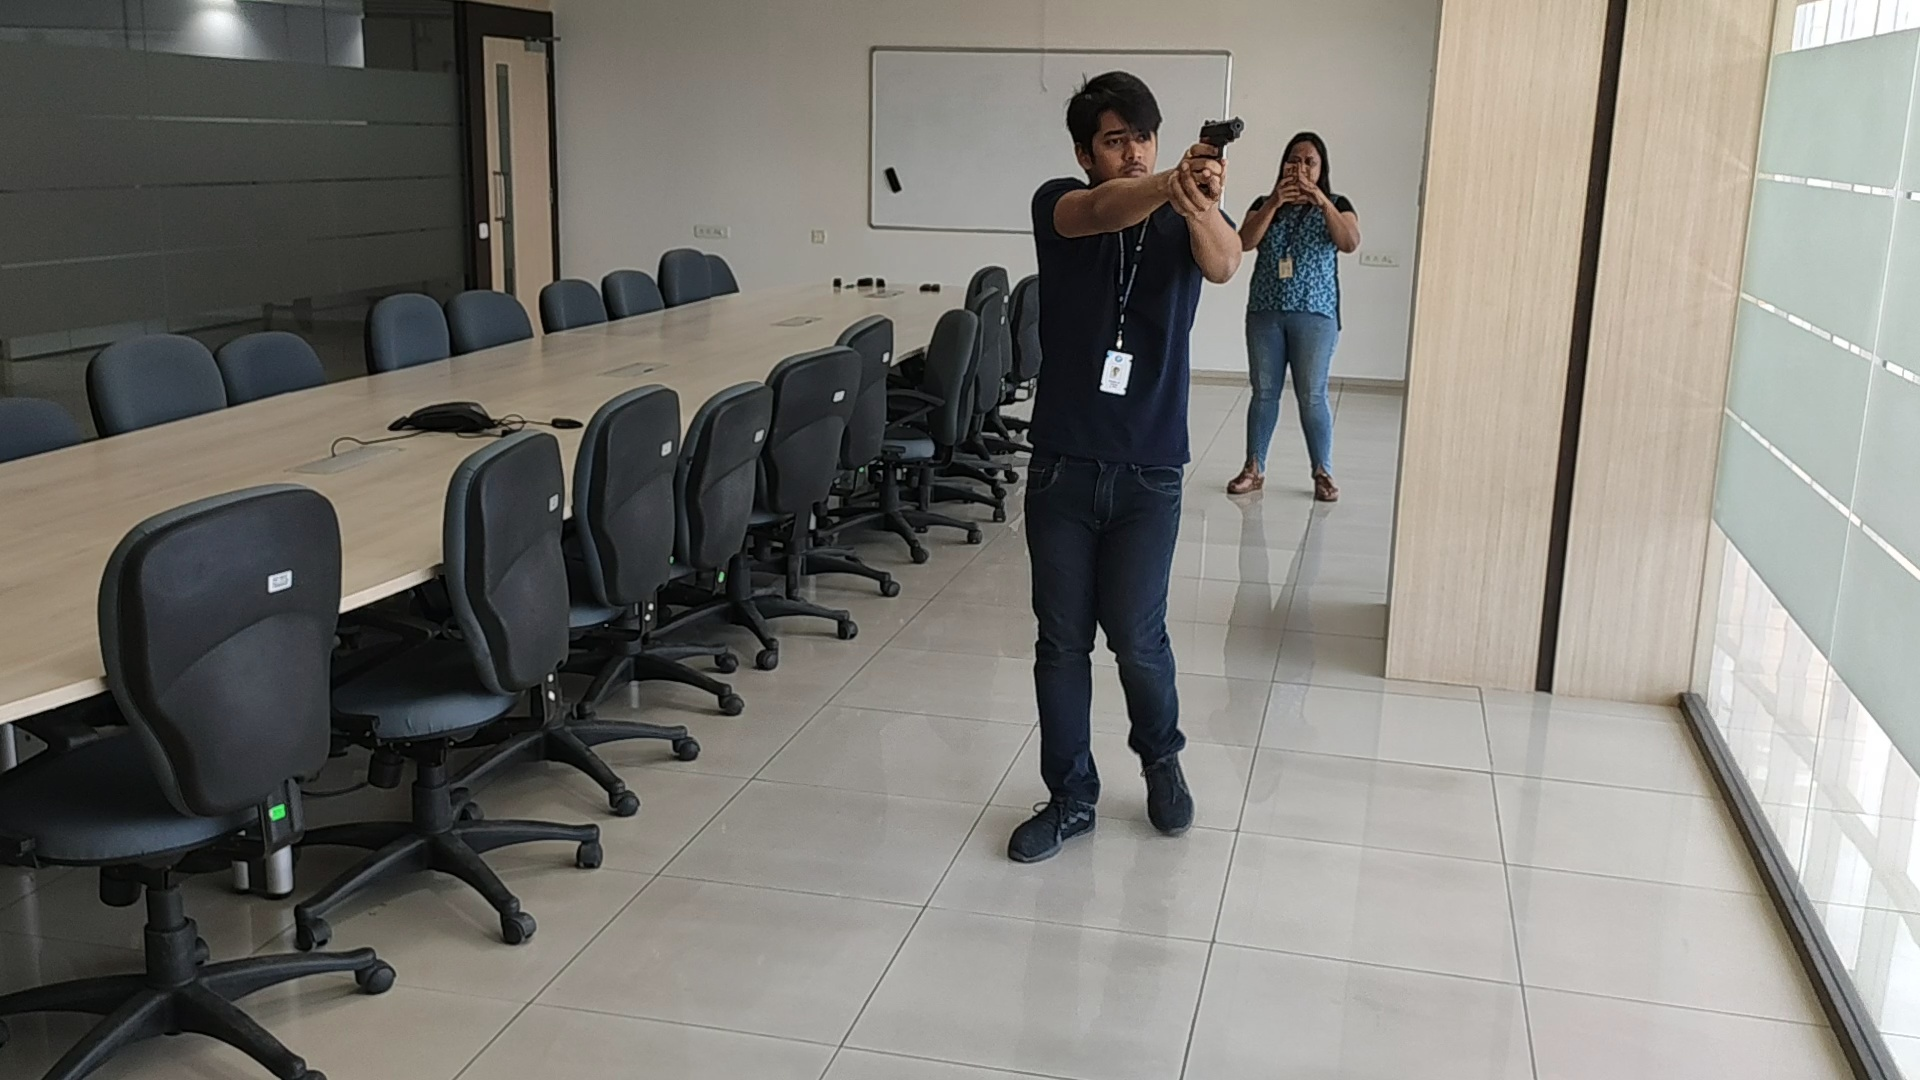gun: (1192, 117, 1247, 160)
